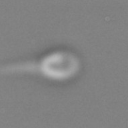normal: (1, 53, 38, 82)
